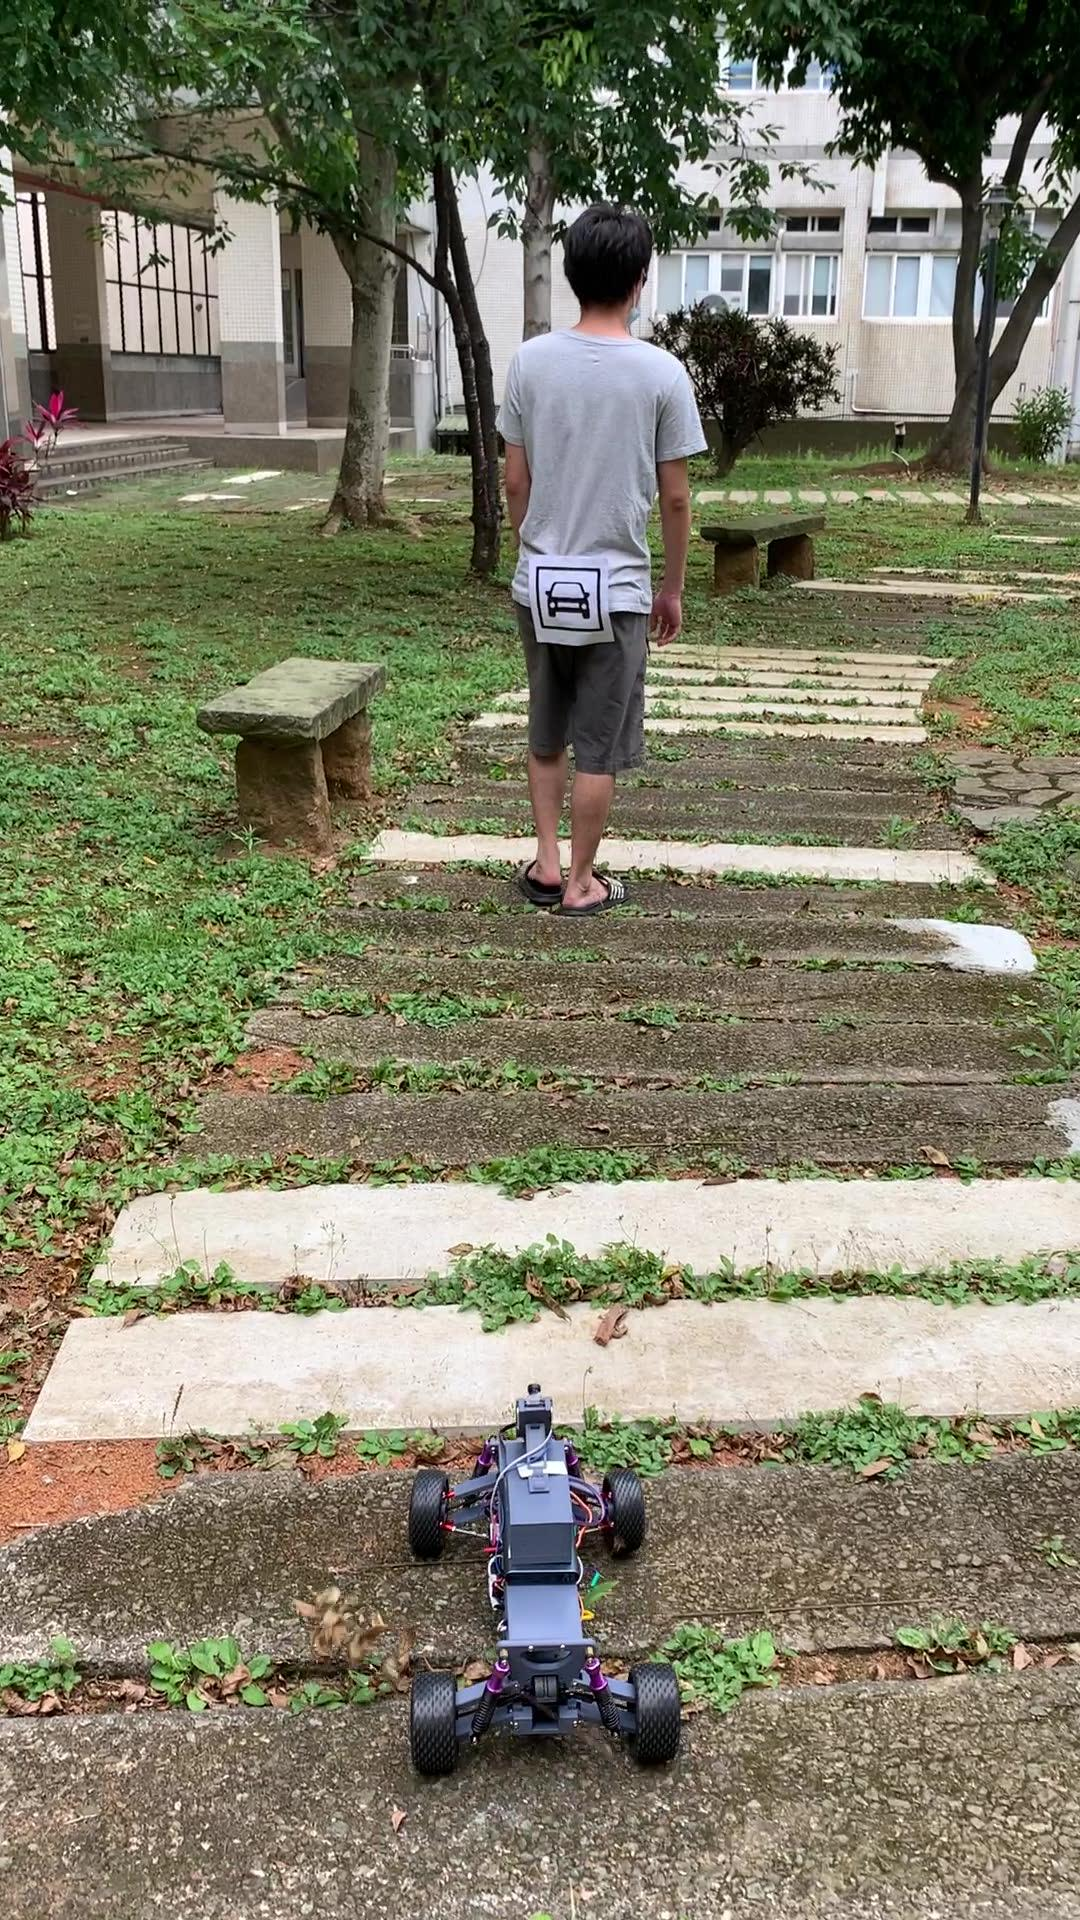car_img: (535, 564, 605, 633)
